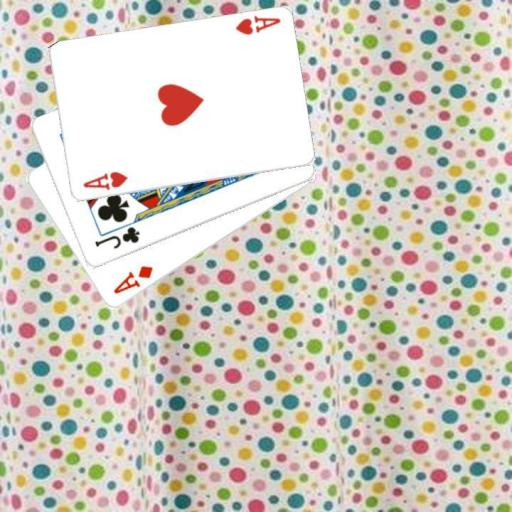AD: (110, 262, 155, 296)
AH: (232, 13, 282, 37), (80, 169, 129, 192)
JC: (91, 223, 141, 251)
